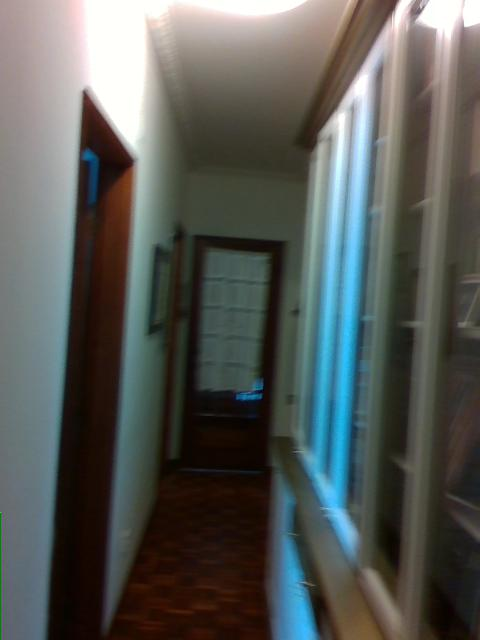door: (47, 84, 136, 640), (179, 234, 287, 471)
